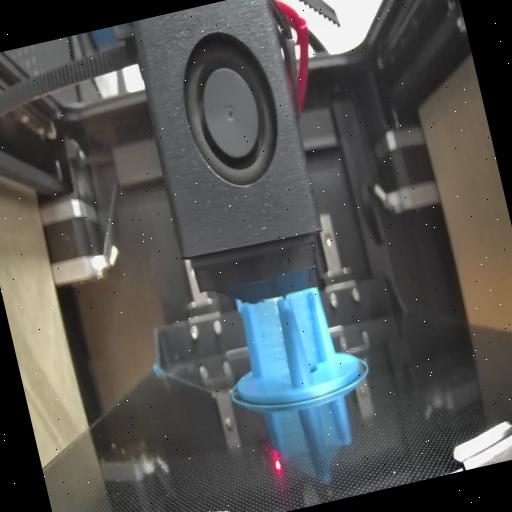stringing: (244, 300, 296, 396), (292, 292, 326, 372)
